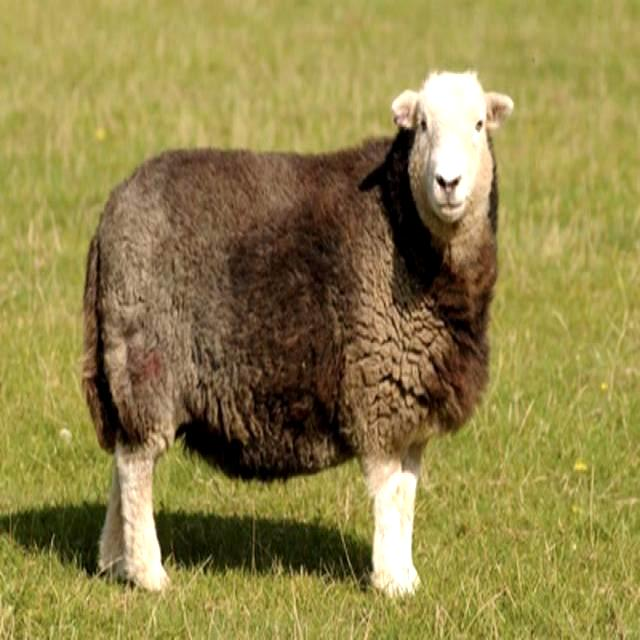sheep: (80, 72, 515, 603)
